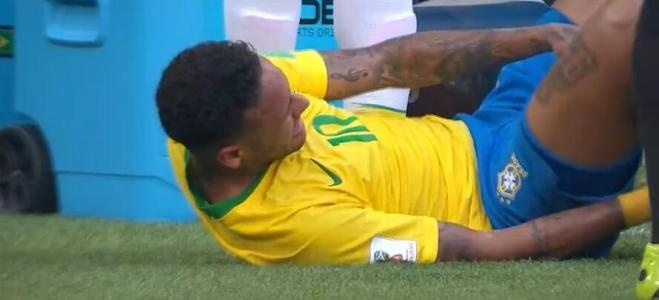falling: (161, 3, 642, 272)
